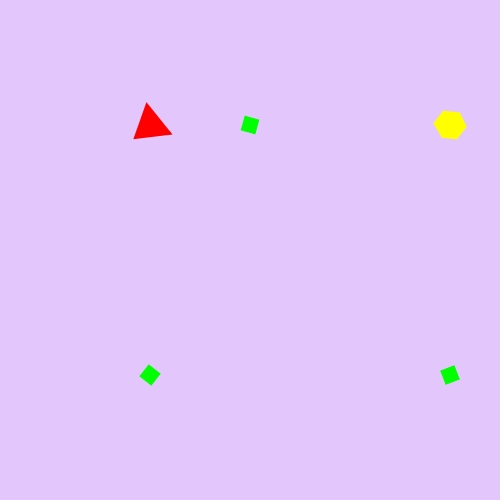hexagon: (430, 108, 471, 143)
quadrilateral: (235, 110, 265, 140), (135, 360, 165, 390), (435, 360, 465, 390)
triangle: (129, 103, 172, 148)
